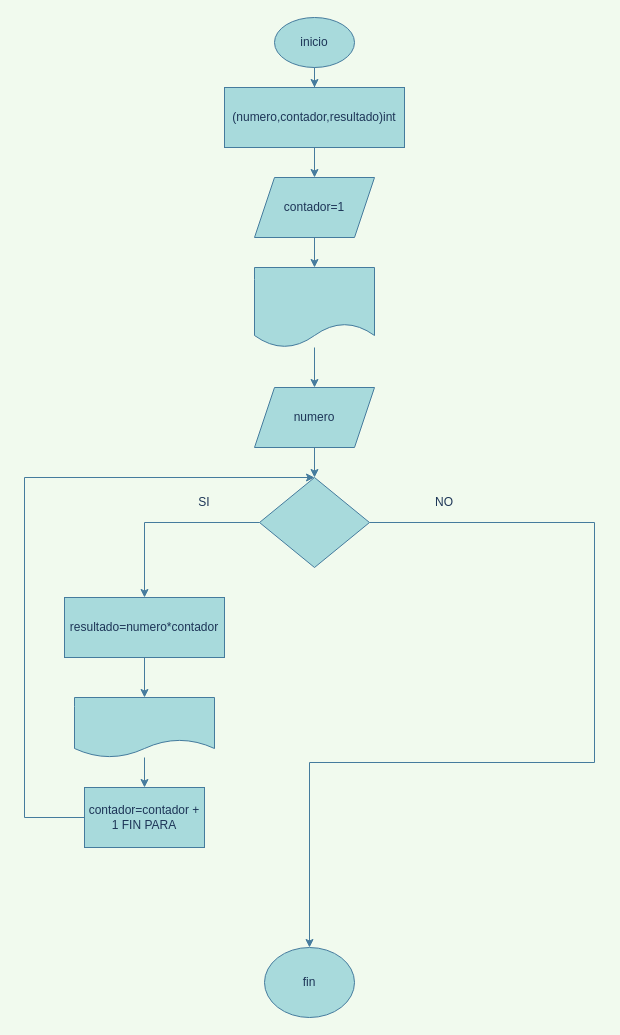
Image size: 620x1035. Some labels were removed from this diagram. The centre of each missing label's shape, as x and y in pixels:
"Ingresa un numero que quieres Multiplicar del 1 al 10": point (314, 307)
(numero * contador = resutado): point (144, 727)
contador<10: point (314, 522)
